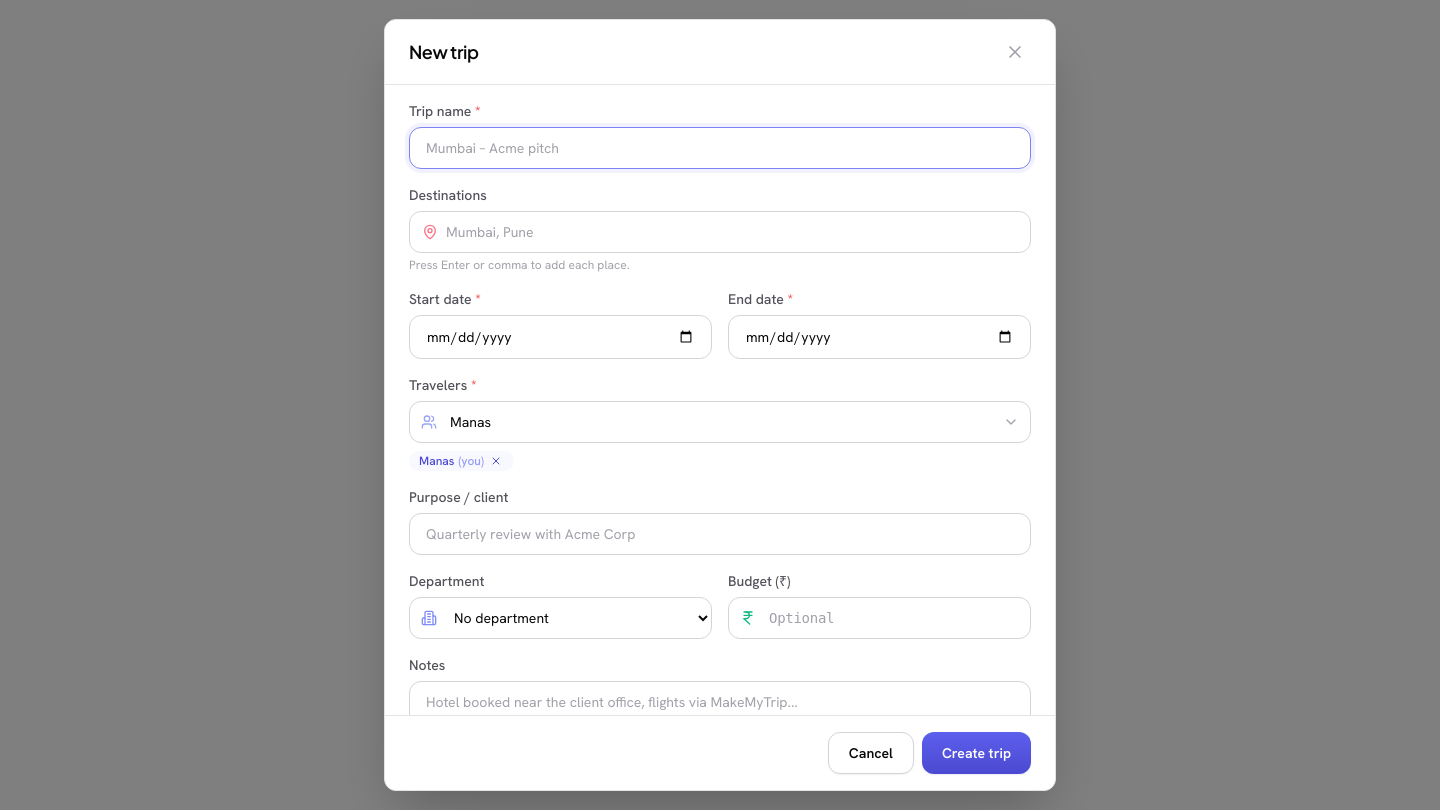
Test case: TripFormModal › shows server errors and keeps the form open
This screenshot has width=1440, height=810.
In the field labelled "Trip name *": (720, 148) [409,127,1031,169], type "Pune"
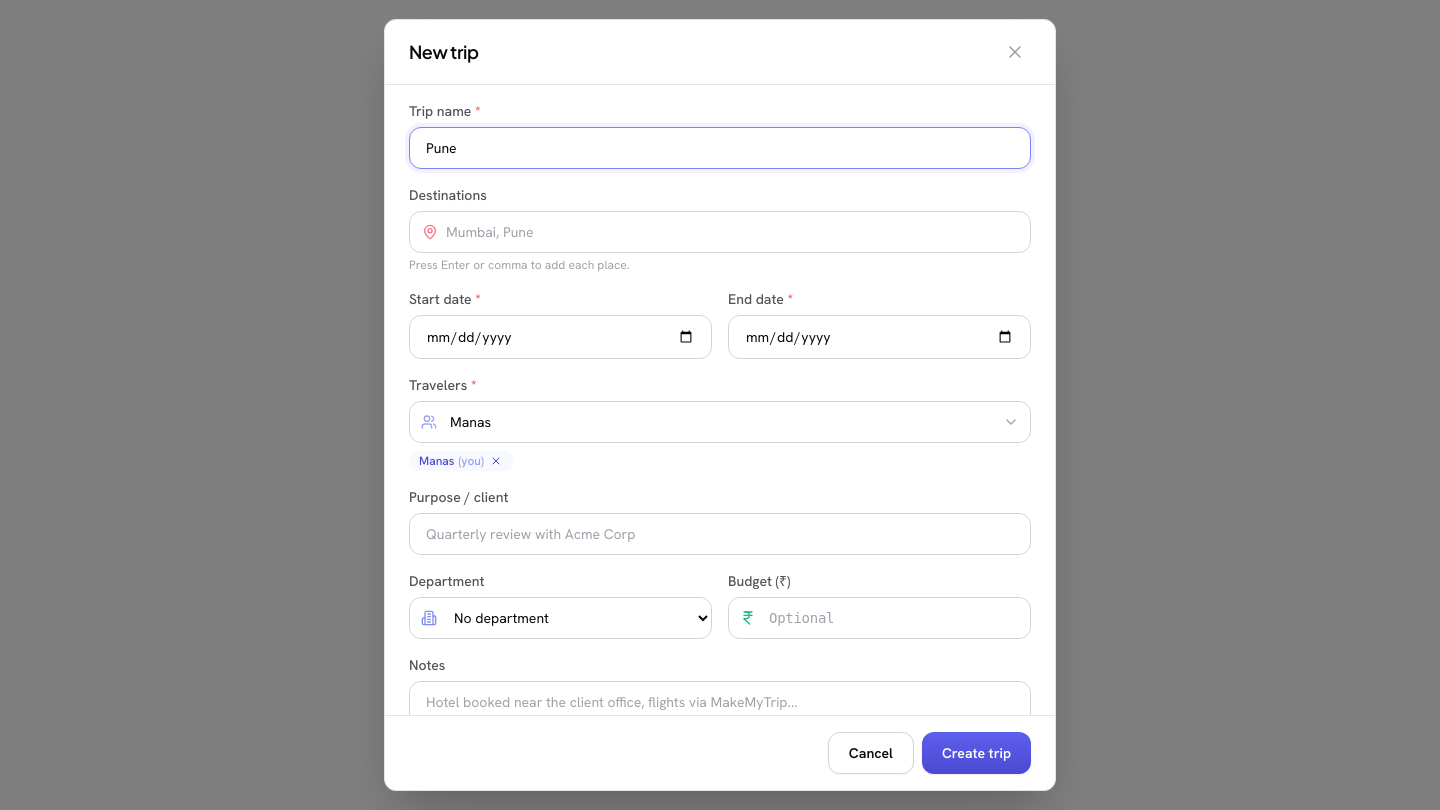
In the date field labelled "Start date *": (560, 337) [409,315,712,359], type "2026-11-05"
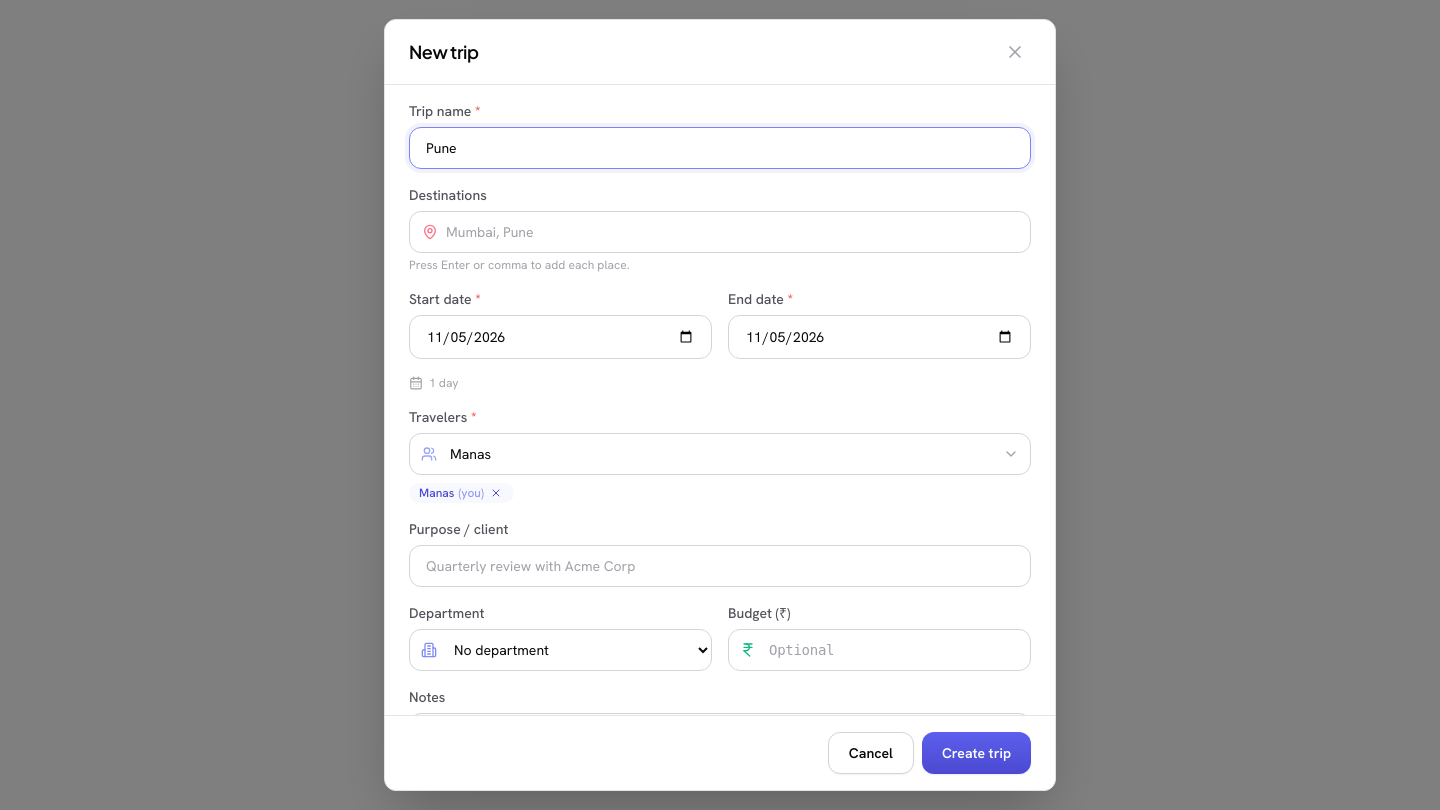
Click the button "Create trip": (976, 753) [922,732,1031,774]
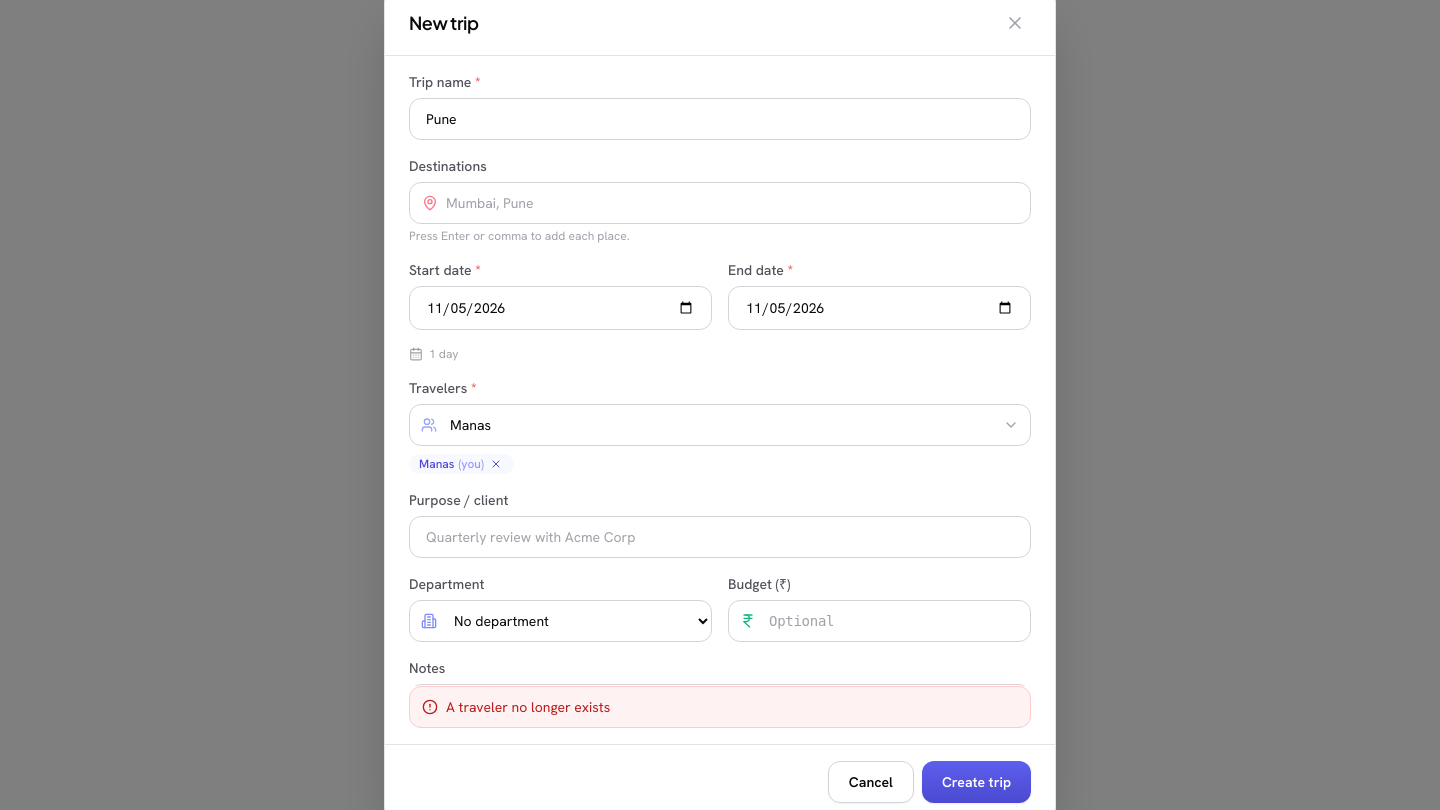
Expected: the message reads "A traveler no longer exists", [446,698,610,716]
